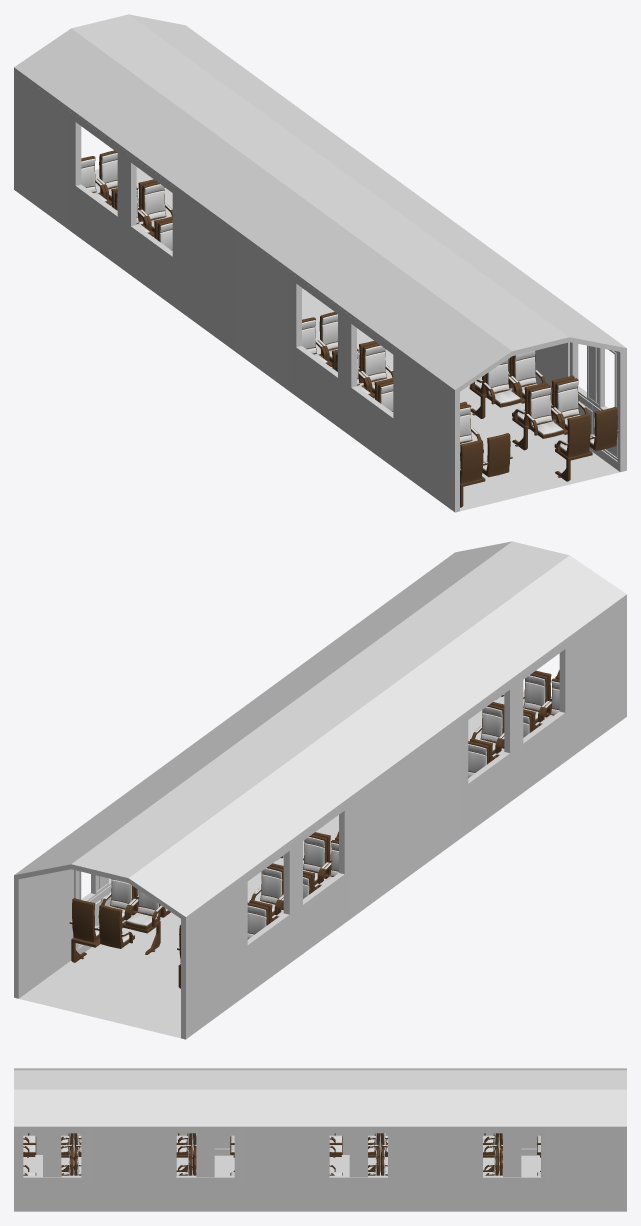
The model's file is TrainCartTest.fbx.
3 views of the same model, one above another, from view 1: azimuth 30°, elevation 25°; view 2: azimuth 150°, elevation 25°; view 3: azimuth 270°, elevation 25° (orthographic). The views are drawn at different scales.
Parts seen in each view (by area): view 1: Cube.167; view 2: Cube.167; view 3: Cube.167.
Boxes of the visible parts, left/top/right/bottom form: Cube.167: left=14, top=14, right=626, bottom=512; Cube.167: left=14, top=541, right=626, bottom=1039; Cube.167: left=14, top=1068, right=626, bottom=1211.
Size of the model in its own units: 360 by 295 by 1600.
